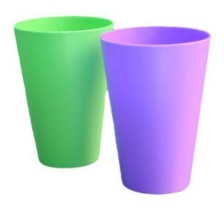glass: (96, 20, 215, 202), (9, 11, 118, 173)
